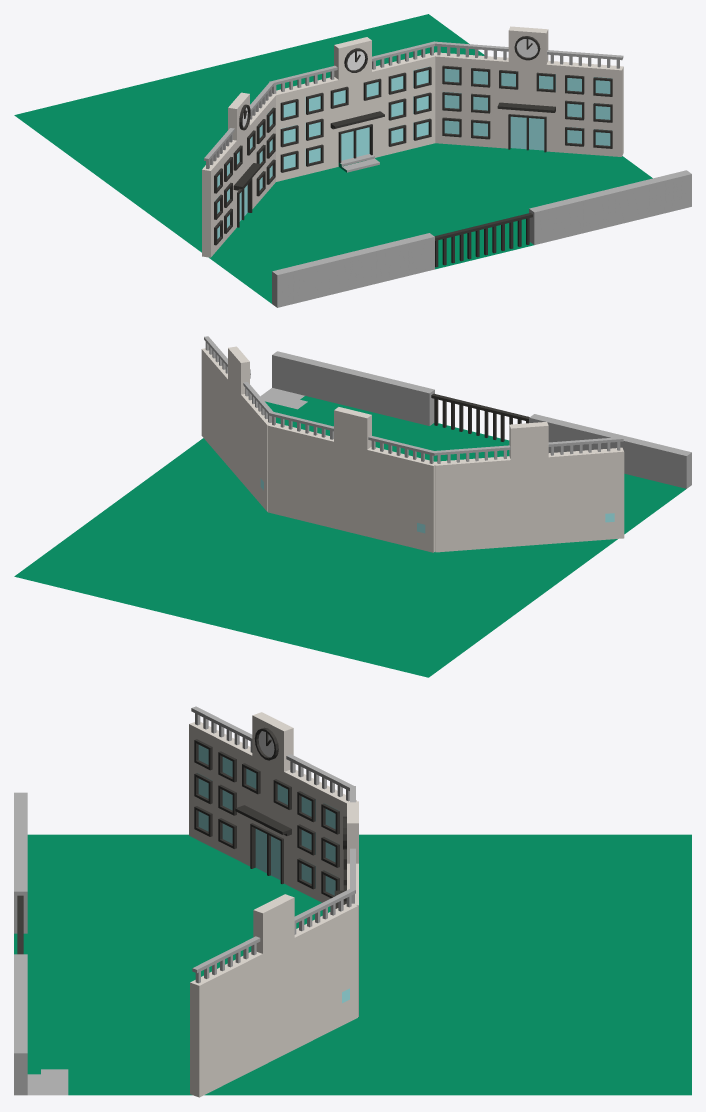
File: school.glb
3 renders of one model, top to bottom at view 1: azimuth 30°, elevation 25°; view 2: azimuth 150°, elevation 25°; view 3: azimuth 270°, elevation 25°, orthographic. The views are drawn at different scales.
Parts seen in each view (by area): view 1: pPlane1, pCube1.001, pCube1, pCube1.002, pCube18.001, pCube18, pCube36, pCube18.002; view 2: pPlane1, pCube1.002, pCube1, pCube1.001, pCube18.002, pCube18, pCube36; view 3: pPlane1, pCube1.001, pCube1.002, pCube1, pCube18.001, pCube18.002.
Part boxes in pixels (left/top/right/bottom): pPlane1: left=14, top=14, right=691, bottom=307; pCube1.001: left=433, top=26, right=623, bottom=156; pCube1: left=272, top=37, right=435, bottom=181; pCube1.002: left=202, top=92, right=275, bottom=257; pCube18.001: left=434, top=41, right=623, bottom=60; pCube18: left=269, top=41, right=435, bottom=85; pCube36: left=434, top=213, right=532, bottom=240; pCube18.002: left=204, top=82, right=273, bottom=161; pPlane1: left=14, top=351, right=691, bottom=677; pCube1.002: left=434, top=422, right=624, bottom=552; pCube1: left=267, top=407, right=437, bottom=552; pCube1.001: left=201, top=346, right=271, bottom=511; pCube18.002: left=435, top=437, right=623, bottom=455; pCube18: left=269, top=411, right=436, bottom=455; pCube36: left=431, top=393, right=529, bottom=421; pPlane1: left=14, top=792, right=691, bottom=1095; pCube1.001: left=190, top=894, right=357, bottom=1097; pCube1.002: left=189, top=712, right=356, bottom=902; pCube1: left=334, top=801, right=358, bottom=1016; pCube18.001: left=192, top=889, right=354, bottom=972; pCube18.002: left=191, top=706, right=353, bottom=790.
Size of the model in its own units: 0.509 by 0.1366 by 0.5499.
